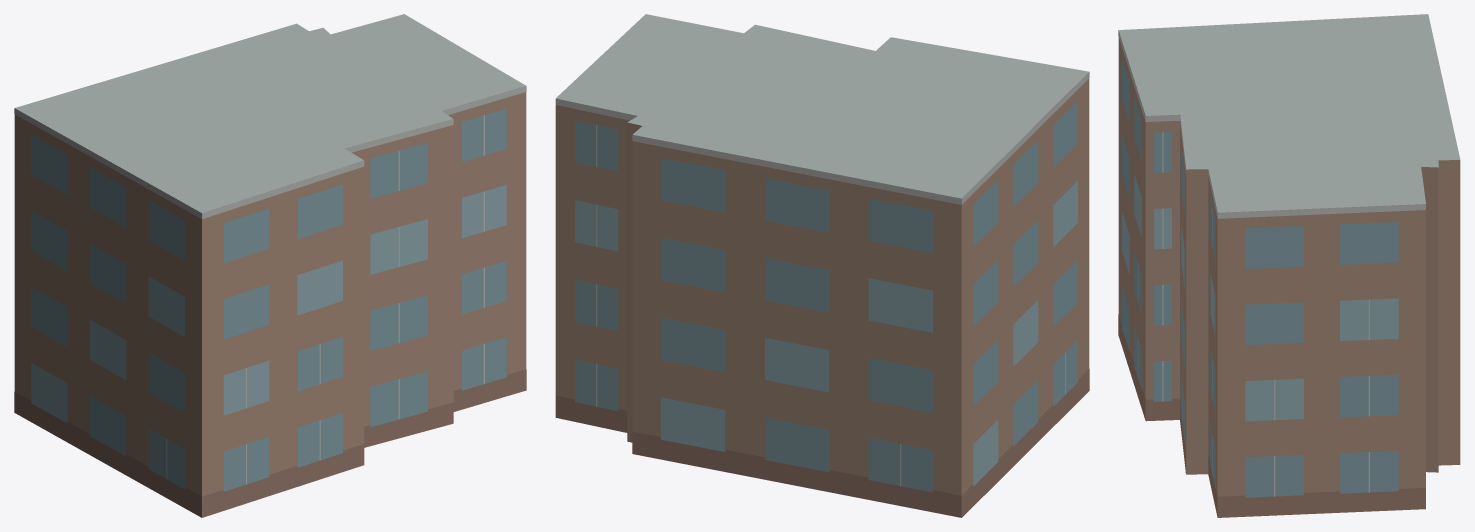
The model's file is survey-upis-32775784.glb.
The picture shows the model from 3 angles, left to right: view 1: azimuth 30°, elevation 25°; view 2: azimuth 150°, elevation 25°; view 3: azimuth 270°, elevation 25°; orthographic projection. The views are drawn at different scales.
Parts seen in each view (by area): view 1: survey-upis-32775784.tmp; view 2: survey-upis-32775784.tmp; view 3: survey-upis-32775784.tmp.
Part boxes in pixels (left/top/right/bottom): survey-upis-32775784.tmp: left=14, top=14, right=526, bottom=517; survey-upis-32775784.tmp: left=555, top=14, right=1089, bottom=517; survey-upis-32775784.tmp: left=1118, top=14, right=1460, bottom=517.
Bounding box in the file's own units: 17.2 × 12.3 × 12.5.
